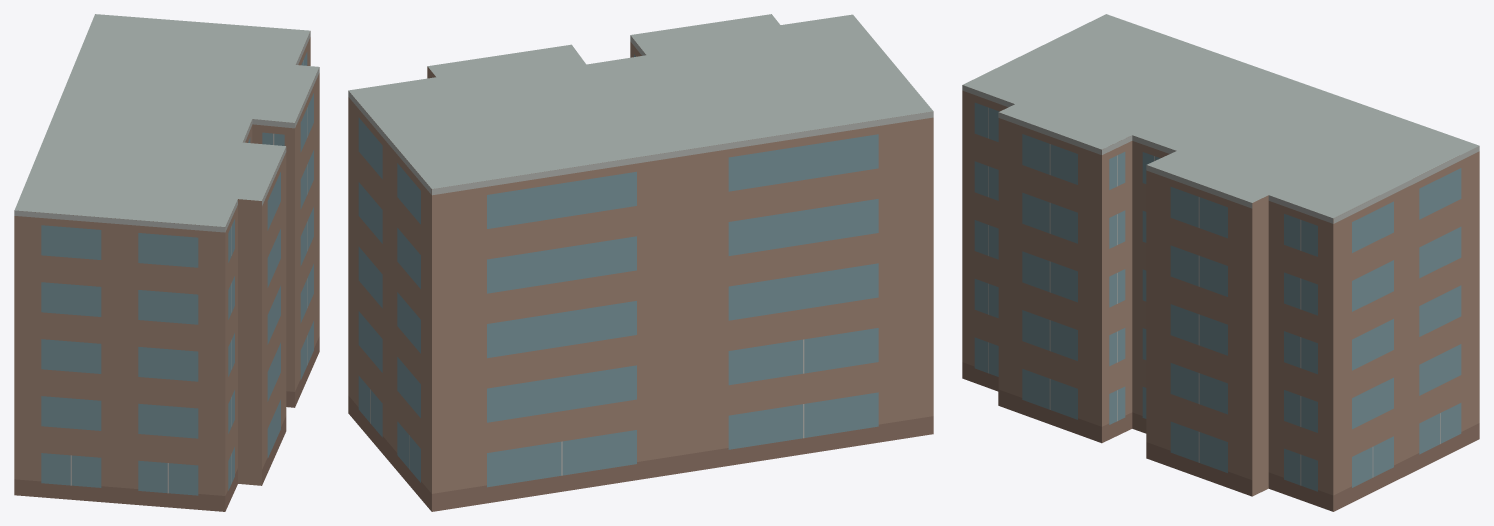
The model's file is survey-upis-32680488.glb.
The picture shows the model from 3 angles, left to right: view 1: azimuth 30°, elevation 25°; view 2: azimuth 150°, elevation 25°; view 3: azimuth 270°, elevation 25°; orthographic projection. The views are drawn at different scales.
Visible parts, largest first — view 1: survey-upis-32680488.tmp; view 2: survey-upis-32680488.tmp; view 3: survey-upis-32680488.tmp.
Part boxes in pixels (box(x1,y1,x2,y2)): survey-upis-32680488.tmp: box(14, 14, 319, 511); survey-upis-32680488.tmp: box(348, 14, 933, 511); survey-upis-32680488.tmp: box(962, 14, 1479, 511).
Size of the model in its own units: 19.12 by 12.8 by 20.45.
